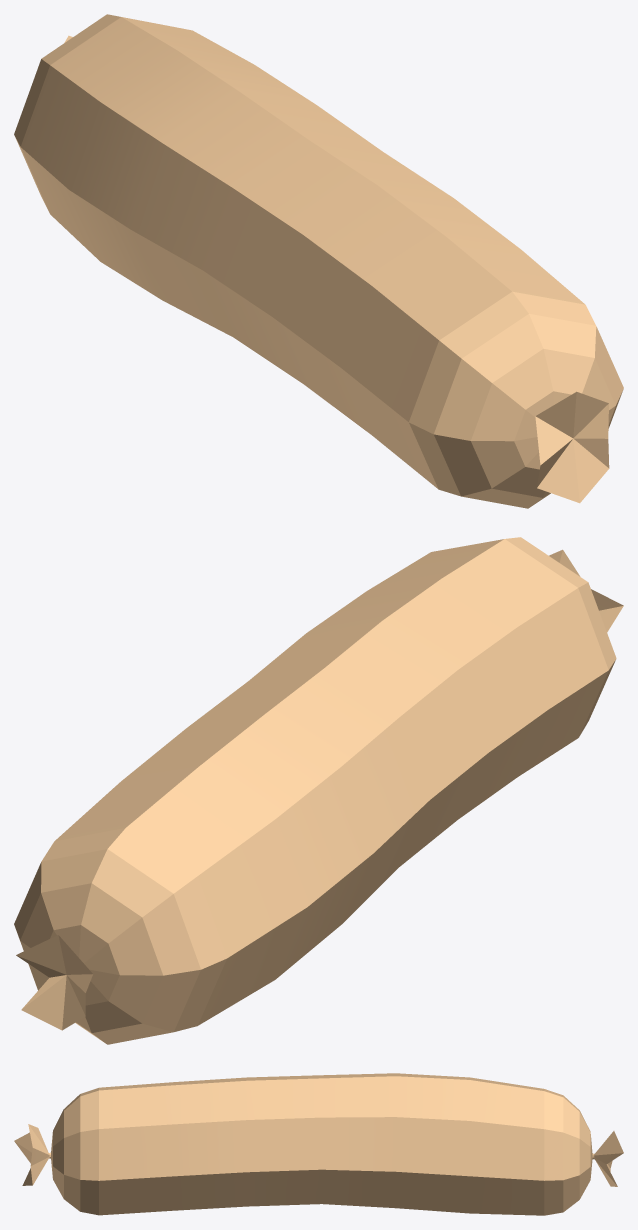
File: Sausage.fbx
The picture shows the model from 3 angles, top to bottom: view 1: azimuth 30°, elevation 25°; view 2: azimuth 150°, elevation 25°; view 3: azimuth 270°, elevation 25°; orthographic projection. The views are drawn at different scales.
Parts seen in each view (by area): view 1: pSphere3; view 2: pSphere3; view 3: pSphere3.
Boxes of the visible parts, x1,y1,x2,y2 form: pSphere3: [14, 14, 623, 508]; pSphere3: [14, 537, 623, 1044]; pSphere3: [14, 1073, 623, 1215].
Size of the model in its own units: 2.28 by 2.2 by 9.04.
